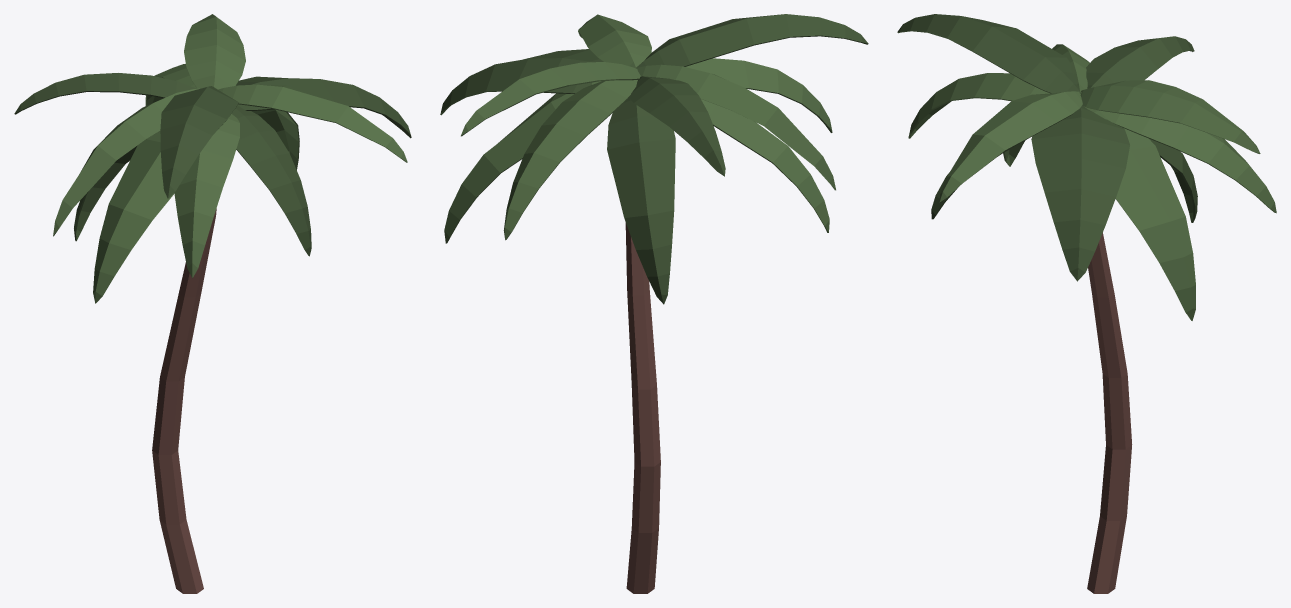
Rendered from palmtree_3.glb.
3 views of the same model, side by side, from view 1: azimuth 30°, elevation 25°; view 2: azimuth 150°, elevation 25°; view 3: azimuth 270°, elevation 25° (orthographic).
Visible parts, largest first — view 1: PalmTree_3; view 2: PalmTree_3; view 3: PalmTree_3.
Boxes of the visible parts, x1,y1,x2,y2 form: PalmTree_3: (14,14,411,593); PalmTree_3: (440,14,868,593); PalmTree_3: (897,14,1276,593).
Size of the model in its own units: 6.9 by 9.43 by 6.03.
